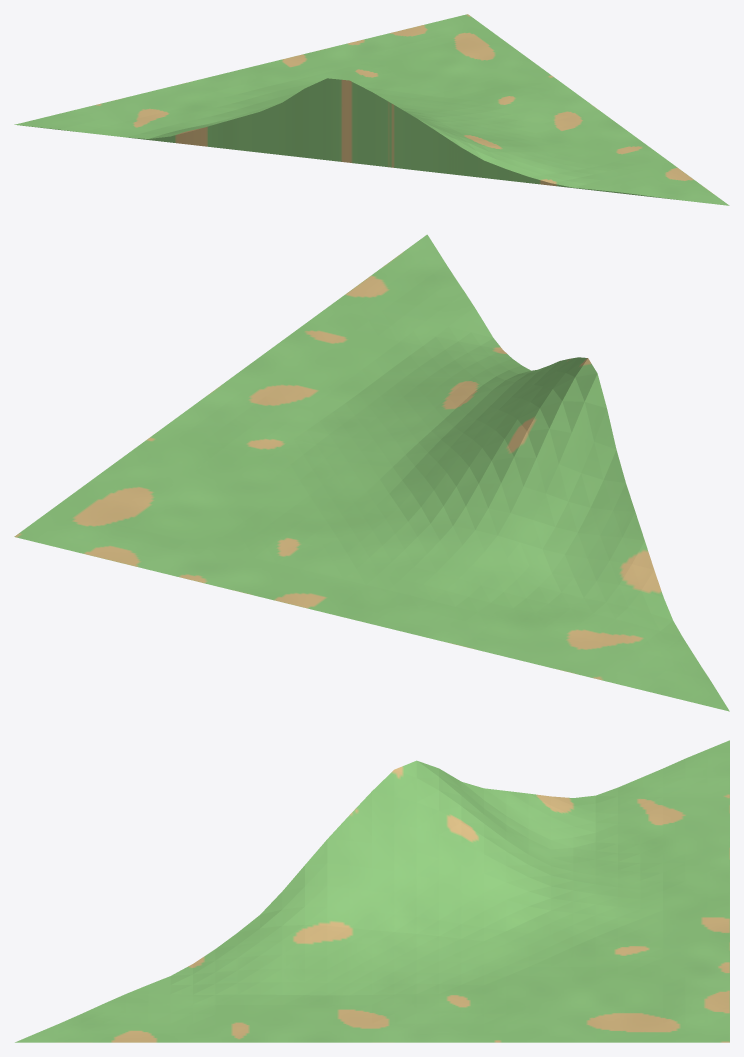
Rendered from Grass_Hills_02_SE.obj.
3 views of the same model, one above another, from view 1: azimuth 30°, elevation 25°; view 2: azimuth 150°, elevation 25°; view 3: azimuth 270°, elevation 25° (orthographic). The views are drawn at different scales.
Bounding box in the file's own units: 10 × 1.73 × 10.
1 material, 1 textured.
